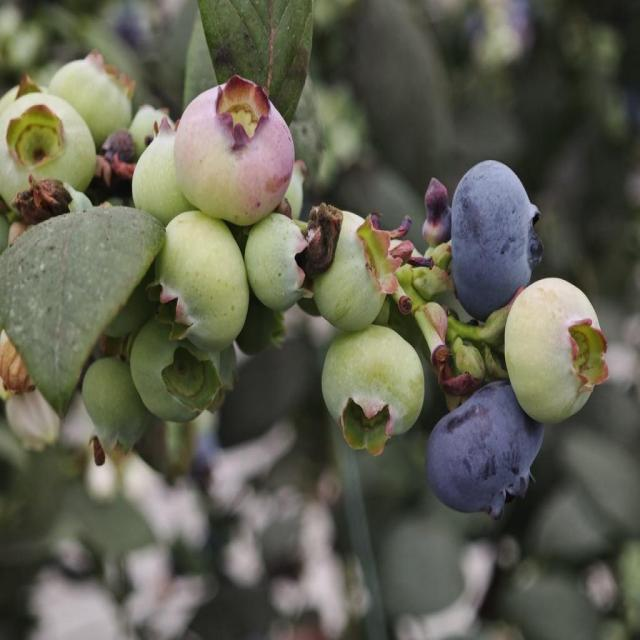RipeBlueBerry: (417, 373, 557, 533), (503, 282, 616, 437), (449, 162, 545, 332)
Semi-RipeBlueBerry: (178, 71, 298, 221), (153, 205, 258, 367), (322, 322, 428, 470)
